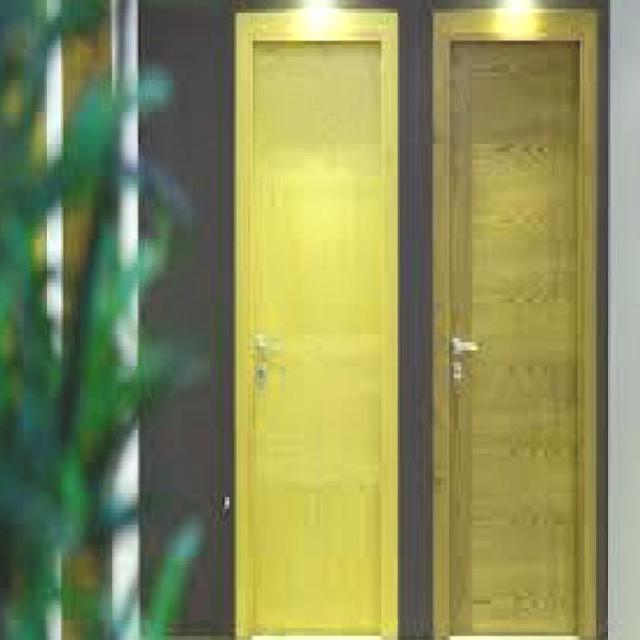door: (432, 9, 600, 638), (232, 6, 399, 637)
